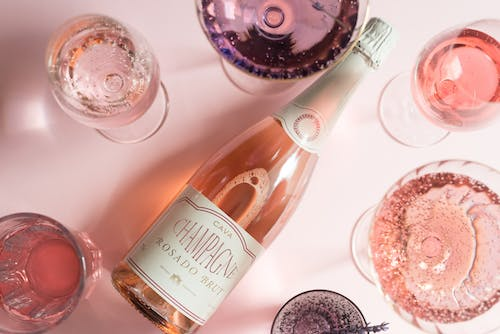alcohol: (107, 13, 396, 334), (346, 157, 500, 334), (193, 0, 372, 97), (42, 11, 170, 145), (375, 16, 500, 150), (0, 211, 103, 334), (266, 285, 372, 334)
